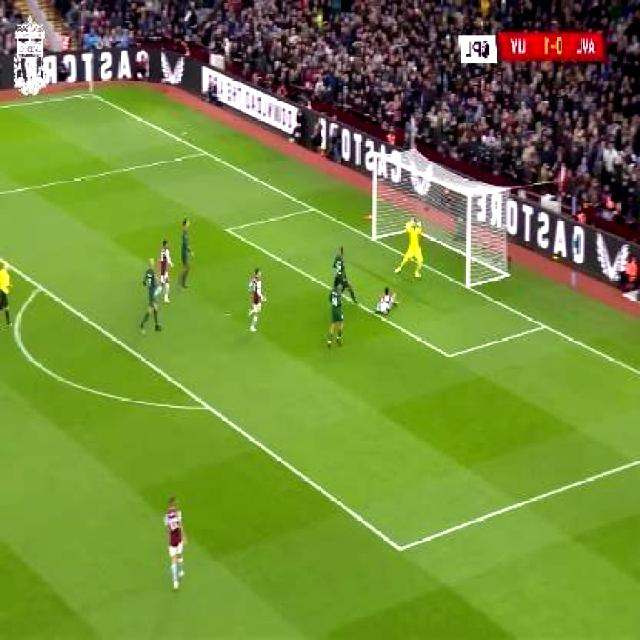bigarea_bottom_inner: (389, 529, 414, 566)
bigarea_top_outter: (197, 140, 215, 162)
bottom_arc_area_intersection: (197, 391, 221, 422)
corner: (80, 85, 102, 102)
smallarea_bottom_inner: (438, 338, 462, 371)
smallarea_bottom_outter: (534, 311, 555, 338)
smallarea_top_inner: (218, 216, 238, 242)
smallarea_top_outter: (304, 196, 324, 222)
top_arc_area_intersection: (31, 274, 51, 300)
